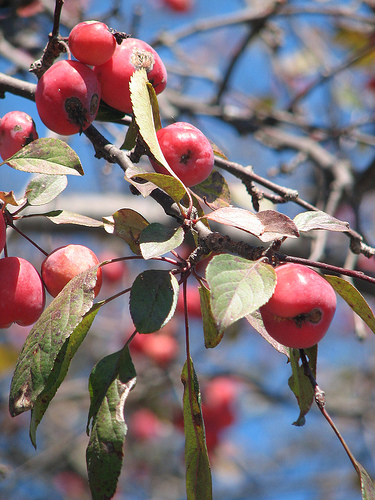apple: (262, 262, 341, 352), (34, 56, 103, 135)
